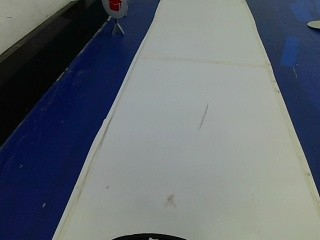school: (101, 0, 128, 19)
